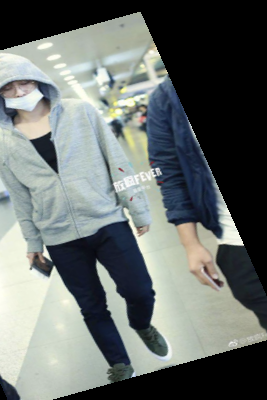mask_weared_incorrect: (1, 42, 47, 135)
